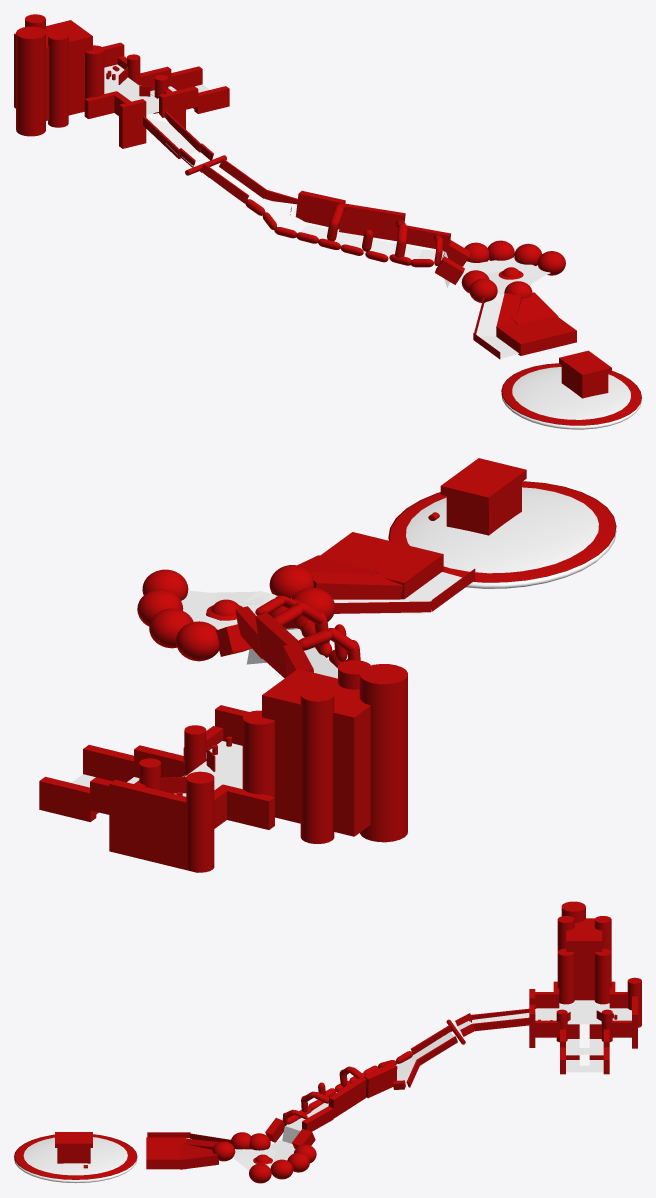
File: BlockoutRampas.fbx
3 renders of one model, top to bottom at view 1: azimuth 30°, elevation 25°; view 2: azimuth 150°, elevation 25°; view 3: azimuth 270°, elevation 25°, orthographic. The views are drawn at different scales.
Visible parts, largest first — view 1: Sphere_1, Cylinder__7_, Cube__15_, Cube__2__1, Cylinder__5_, Sphere__1__1, Cube__24_, Cube__23_, Cube__14_, Plane__14_, Cube__1__1, Cylinder (+11 smaller); view 2: Sphere_1, Cube__15_, Cylinder__7_, Cube__12_, Cylinder__6_, Cube__2__1, Sphere__1__1, Cylinder__4_, Cylinder__1_, Cube__1__1, Cube_1, Cube__3__1 (+25 smaller); view 3: Sphere_1, Cube__15_, Sphere__1__1, Cube__2__1, Cylinder__1_, Cylinder, Cube__24_, Plane__2_, Cube__23_, Cube__4__1, Cube__1__1, Cube_1 (+9 smaller).
Part boxes in pixels (<box>): Sphere_1: <box>501,367,641,429</box>; Cylinder__7_: <box>16,26,45,136</box>; Cube__15_: <box>14,20,92,120</box>; Cube__2__1: <box>496,315,576,355</box>; Cylinder__5_: <box>48,31,68,127</box>; Sphere__1__1: <box>501,363,641,425</box>; Cube__24_: <box>339,203,405,241</box>; Cube__23_: <box>295,191,345,229</box>; Cube__14_: <box>119,99,146,148</box>; Plane__14_: <box>296,225,436,267</box>; Cube__1__1: <box>559,350,611,380</box>; Cylinder: <box>85,45,104,98</box>; Sphere_1: <box>388,487,616,588</box>; Cube__15_: <box>262,669,370,836</box>; Cylinder__7_: <box>359,664,407,842</box>; Cube__12_: <box>109,779,197,872</box>; Cylinder__6_: <box>300,687,334,843</box>; Cube__2__1: <box>319,532,443,599</box>; Sphere__1__1: <box>388,481,616,582</box>; Cylinder__4_: <box>186,771,214,872</box>; Cylinder__1_: <box>242,710,274,796</box>; Cube__1__1: <box>440,458,526,506</box>; Cube_1: <box>446,482,521,535</box>; Cube__3__1: <box>310,572,402,599</box>; Sphere_1: <box>14,1137,137,1183</box>; Cube__15_: <box>566,918,602,1000</box>; Sphere__1__1: <box>14,1134,137,1179</box>; Cube__2__1: <box>146,1137,185,1169</box>; Cylinder__1_: <box>594,948,611,1004</box>; Cylinder: <box>557,948,574,1004</box>; Cube__24_: <box>328,1078,366,1118</box>; Plane__2_: <box>559,1004,610,1024</box>; Cube__23_: <box>363,1063,397,1098</box>; Cube__4__1: <box>178,1146,218,1169</box>; Cube__1__1: <box>55,1132,92,1147</box>; Cube_1: <box>57,1148,90,1163</box>.
Size of the model in its own units: 137 by 76.22 by 261.
